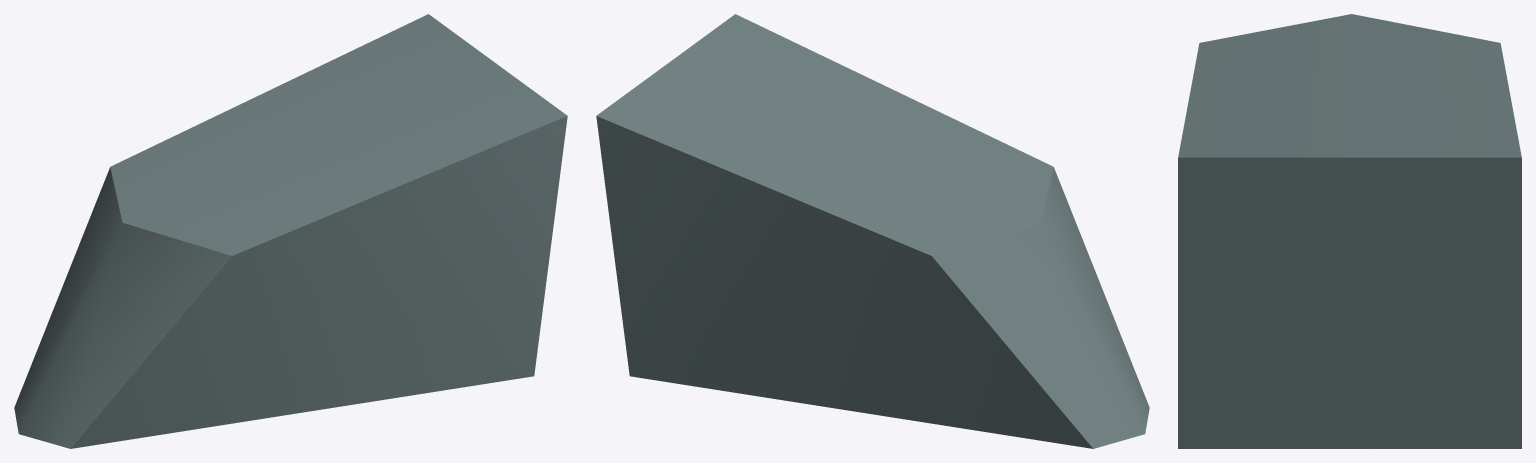
Rendered from floor7.fbx.
3 views of the same model, side by side, from view 1: azimuth 30°, elevation 25°; view 2: azimuth 150°, elevation 25°; view 3: azimuth 270°, elevation 25° (orthographic). The views are drawn at different scales.
Visible parts, largest first — view 1: pCube1; view 2: pCube1; view 3: pCube1.
Part boxes in pixels (x1,y1,x2,y2): pCube1: (14,14,567,448); pCube1: (596,14,1149,448); pCube1: (1178,14,1521,448).
Bounding box in the file's own units: 1.99 × 1 × 1.
